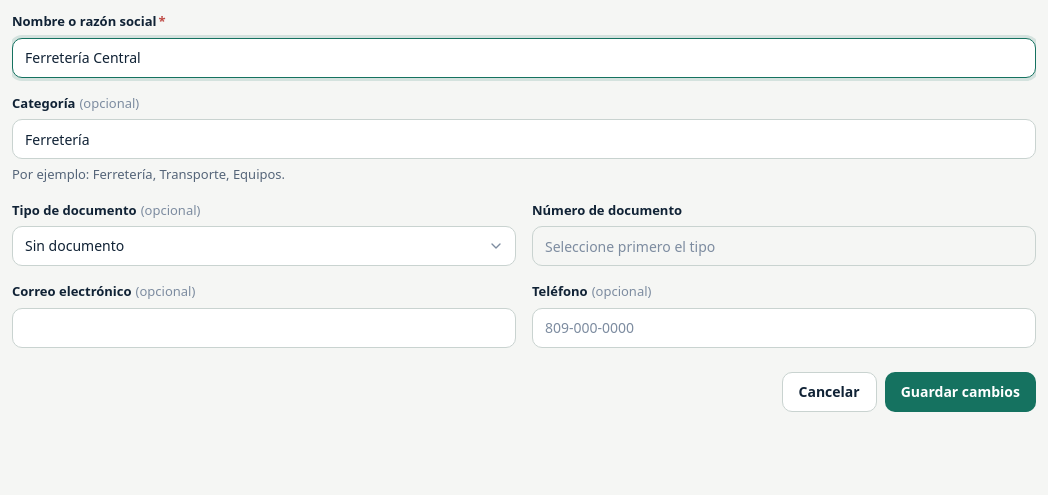
Scenario: SupplierForm › shows a duplicate document reported by the server
The image size is (1048, 495).
Click the button "Guardar cambios". click: (960, 392)
box: [885,372,1036,412]
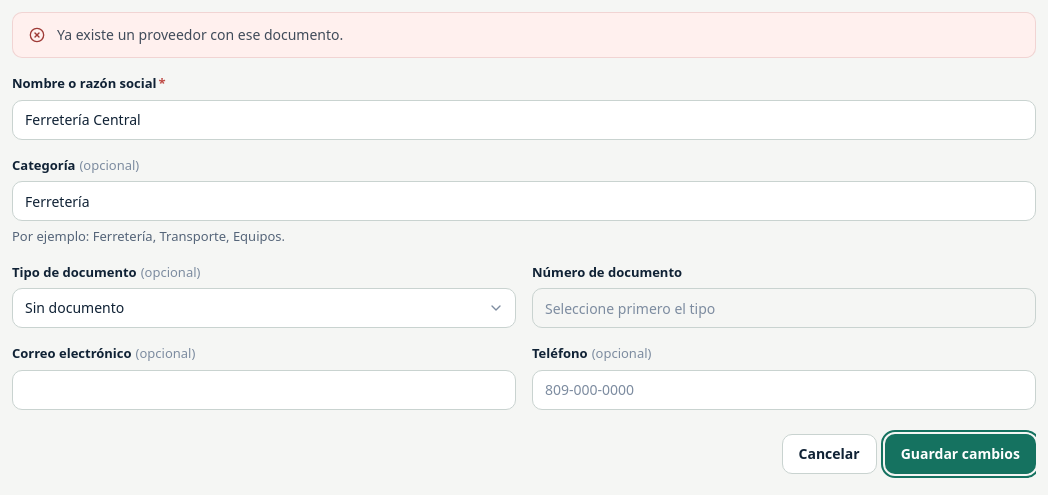
Result: the message reads "Ya existe un proveedor con ese documento." at [57,25,343,44]
